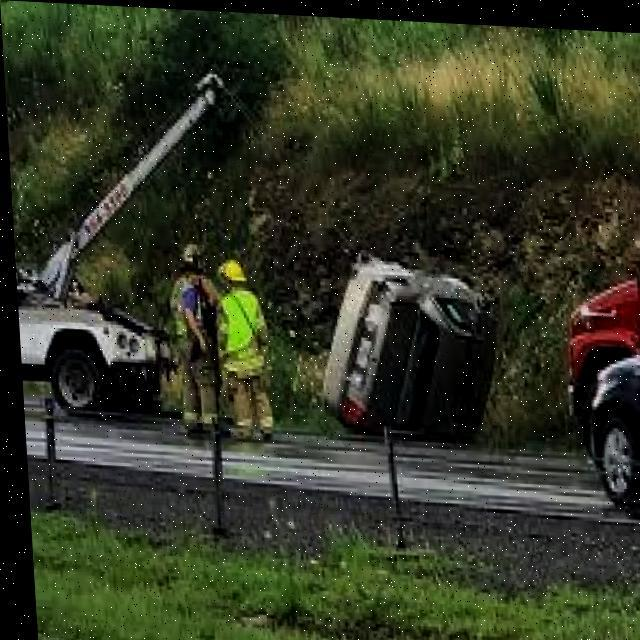normal: (578, 310, 640, 551)
single accident: (309, 217, 494, 445)
